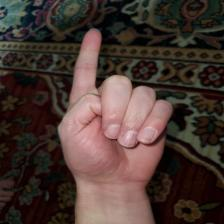one: (63, 25, 172, 204)
